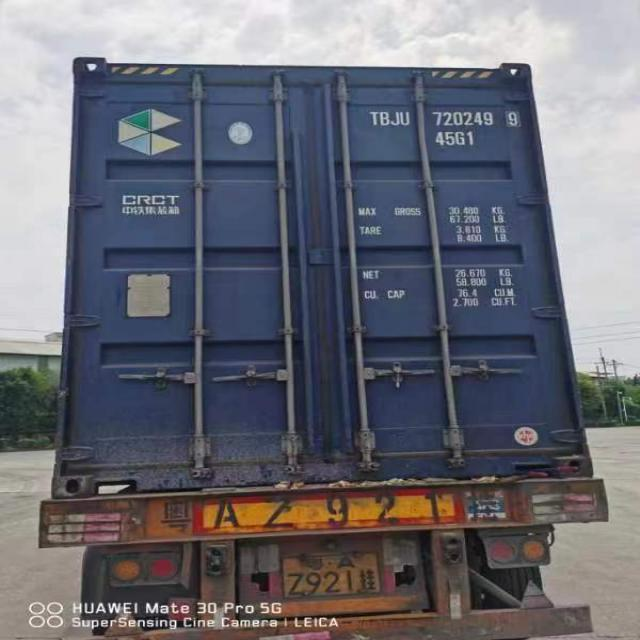ISO: (436, 130, 474, 148)
container_number: (370, 106, 522, 128)
